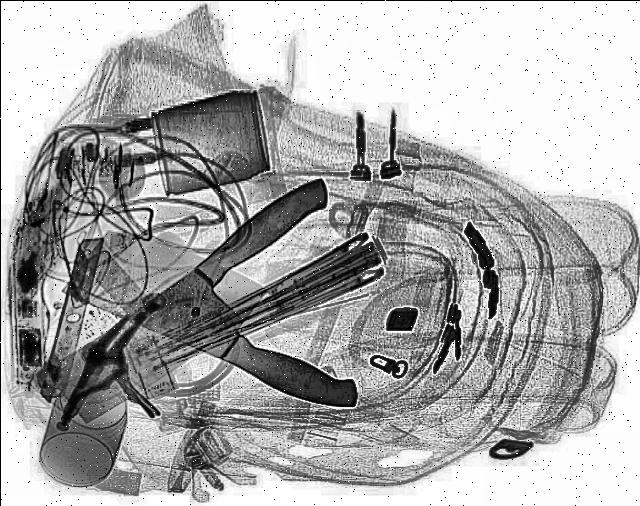Knife: (14, 174, 388, 424), (51, 219, 403, 416)
